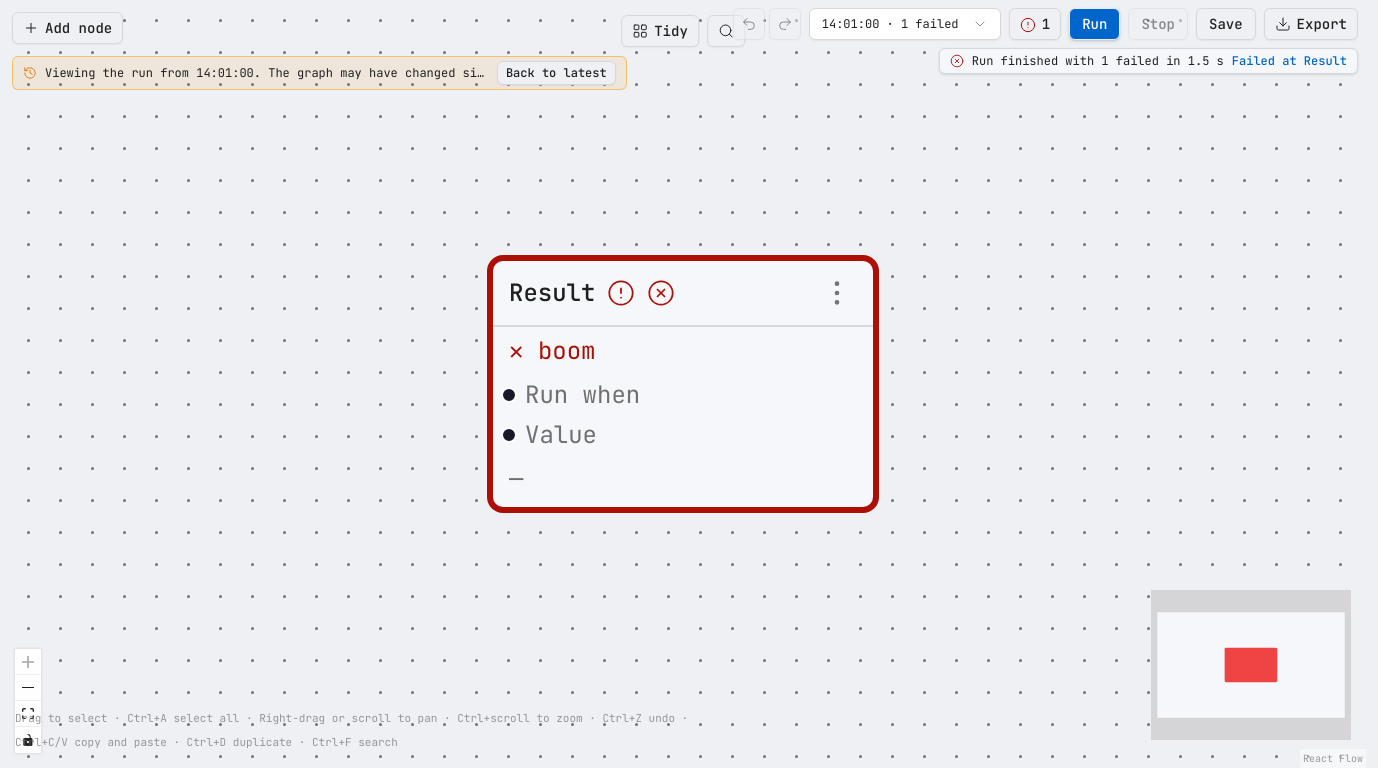
Test: FlowPane run history › moves focus to the Run history selector after Back to latest
Click the button "Back to latest". click: point(556, 73)
box: [497, 61, 616, 85]
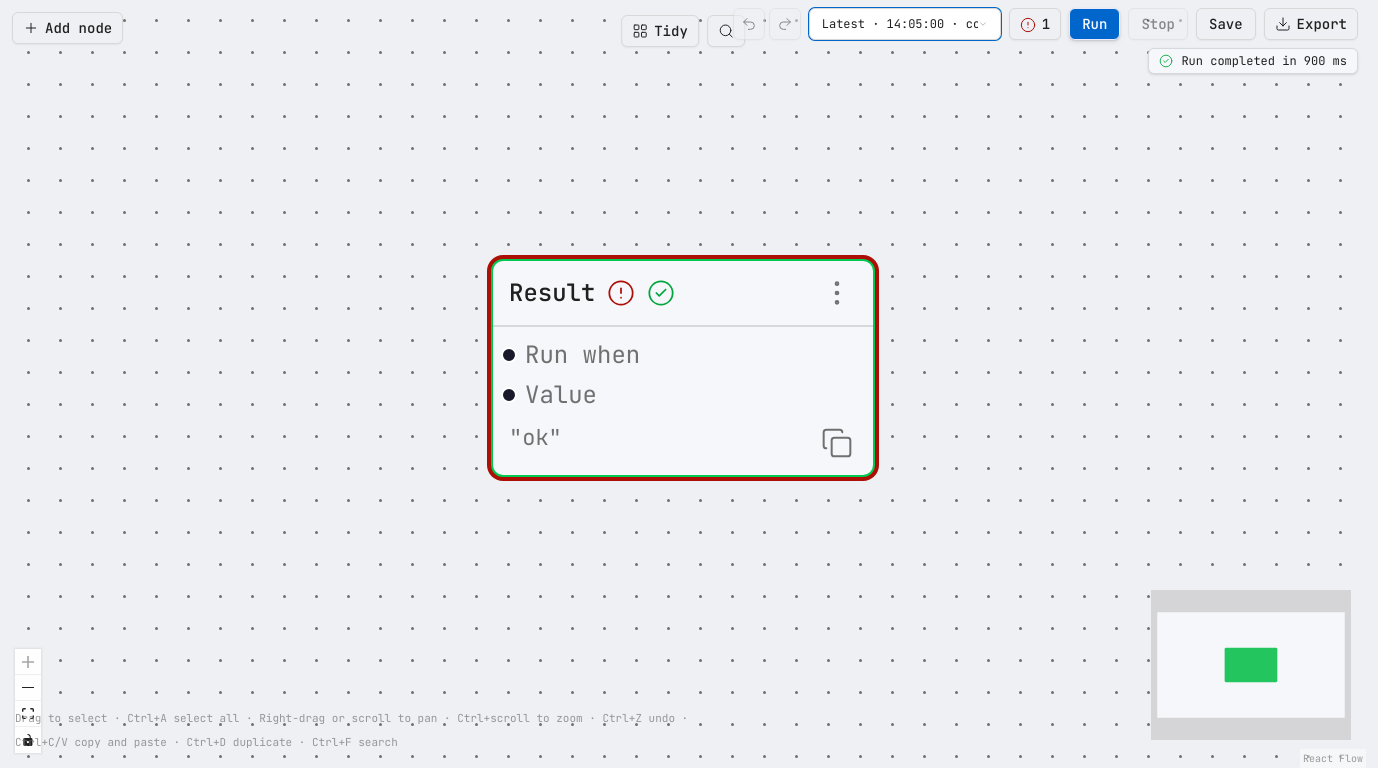
Check: the message with test id "viewed-run-banner" is gone
